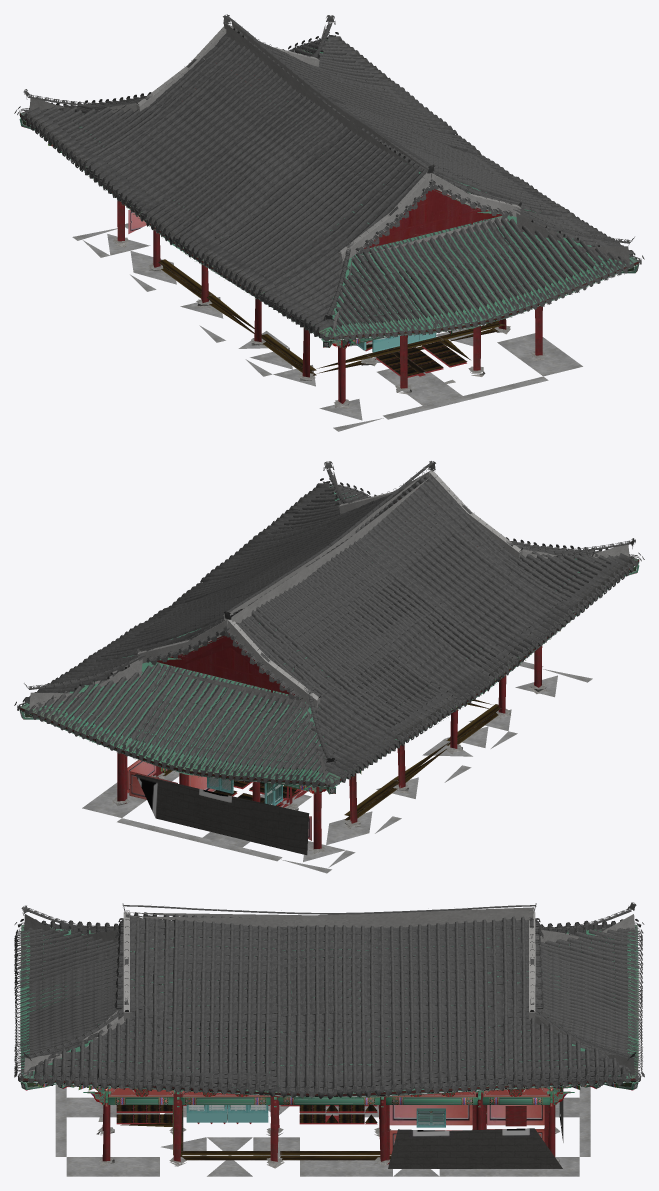
The model's file is yeonhui.glb.
The picture shows the model from 3 angles, top to bottom: view 1: azimuth 30°, elevation 25°; view 2: azimuth 150°, elevation 25°; view 3: azimuth 270°, elevation 25°; orthographic projection.
Parts seen in each view (by area): view 1: 15_Yeonhuigak, 15_Yeonhuigak_pasted__lambert5_0.001, 15_Yeonhuigak_pasted__lambert6_0.001, 15_Yeonhuigak_pasted__lambert6_0.002, 15_Yeonhuigak_pasted___Sugiwa_265k_0.001, 15_Yeonhuigak_pasted__lambert3_0.001; view 2: 15_Yeonhuigak, 15_Yeonhuigak_pasted__lambert5_0.001, 15_Yeonhuigak_pasted__lambert6_0.001, 15_Yeonhuigak_pasted__lambert6_0.002, 15_Yeonhuigak_pasted___Sugiwa_265k_0.001; view 3: 15_Yeonhuigak, 15_Yeonhuigak_pasted__lambert6_0.002, 15_Yeonhuigak_pasted__lambert5_0.001, 15_Yeonhuigak_pasted__lambert6_0.001, 15_Yeonhuigak_pasted___Sugiwa_265k_0.001, 15_Yeonhuigak_Mat_Door3_0.003, 15_Yeonhuigak_pasted__lambert3_0.001, 15_Yeonhuigak_Mat_Door3_0.001.
Part boxes in pixels (x1,y1,x2,y2): 15_Yeonhuigak: [14, 14, 644, 431]; 15_Yeonhuigak_pasted__lambert5_0.001: [40, 36, 622, 328]; 15_Yeonhuigak_pasted__lambert6_0.001: [25, 38, 631, 333]; 15_Yeonhuigak_pasted__lambert6_0.002: [179, 45, 598, 323]; 15_Yeonhuigak_pasted___Sugiwa_265k_0.001: [28, 14, 630, 243]; 15_Yeonhuigak_pasted__lambert3_0.001: [27, 121, 628, 341]; 15_Yeonhuigak: [14, 461, 644, 873]; 15_Yeonhuigak_pasted__lambert5_0.001: [36, 474, 618, 774]; 15_Yeonhuigak_pasted__lambert6_0.001: [27, 483, 630, 779]; 15_Yeonhuigak_pasted__lambert6_0.002: [43, 478, 622, 701]; 15_Yeonhuigak_pasted___Sugiwa_265k_0.001: [28, 467, 426, 762]; 15_Yeonhuigak: [14, 902, 644, 1176]; 15_Yeonhuigak_pasted__lambert6_0.002: [37, 914, 622, 1088]; 15_Yeonhuigak_pasted__lambert5_0.001: [29, 912, 629, 1077]; 15_Yeonhuigak_pasted__lambert6_0.001: [23, 920, 636, 1075]; 15_Yeonhuigak_pasted___Sugiwa_265k_0.001: [27, 904, 631, 1058]; 15_Yeonhuigak_Mat_Door3_0.003: [224, 1105, 268, 1122]; 15_Yeonhuigak_pasted__lambert3_0.001: [14, 930, 26, 1073]; 15_Yeonhuigak_Mat_Door3_0.001: [186, 1105, 227, 1122].
Bounding box in the file's own units: 13.67 × 8.62 × 22.95.
Materials: 41 (41 with a texture image).
